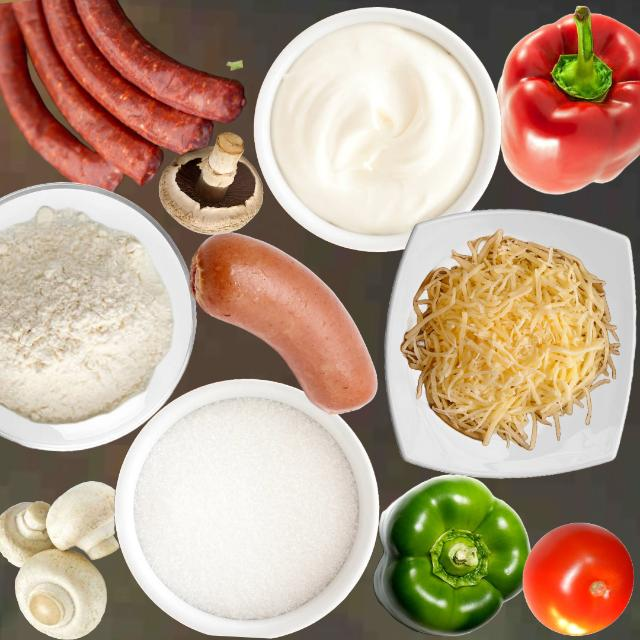Flour: (0, 204, 173, 423)
Sugar: (133, 395, 360, 619)
